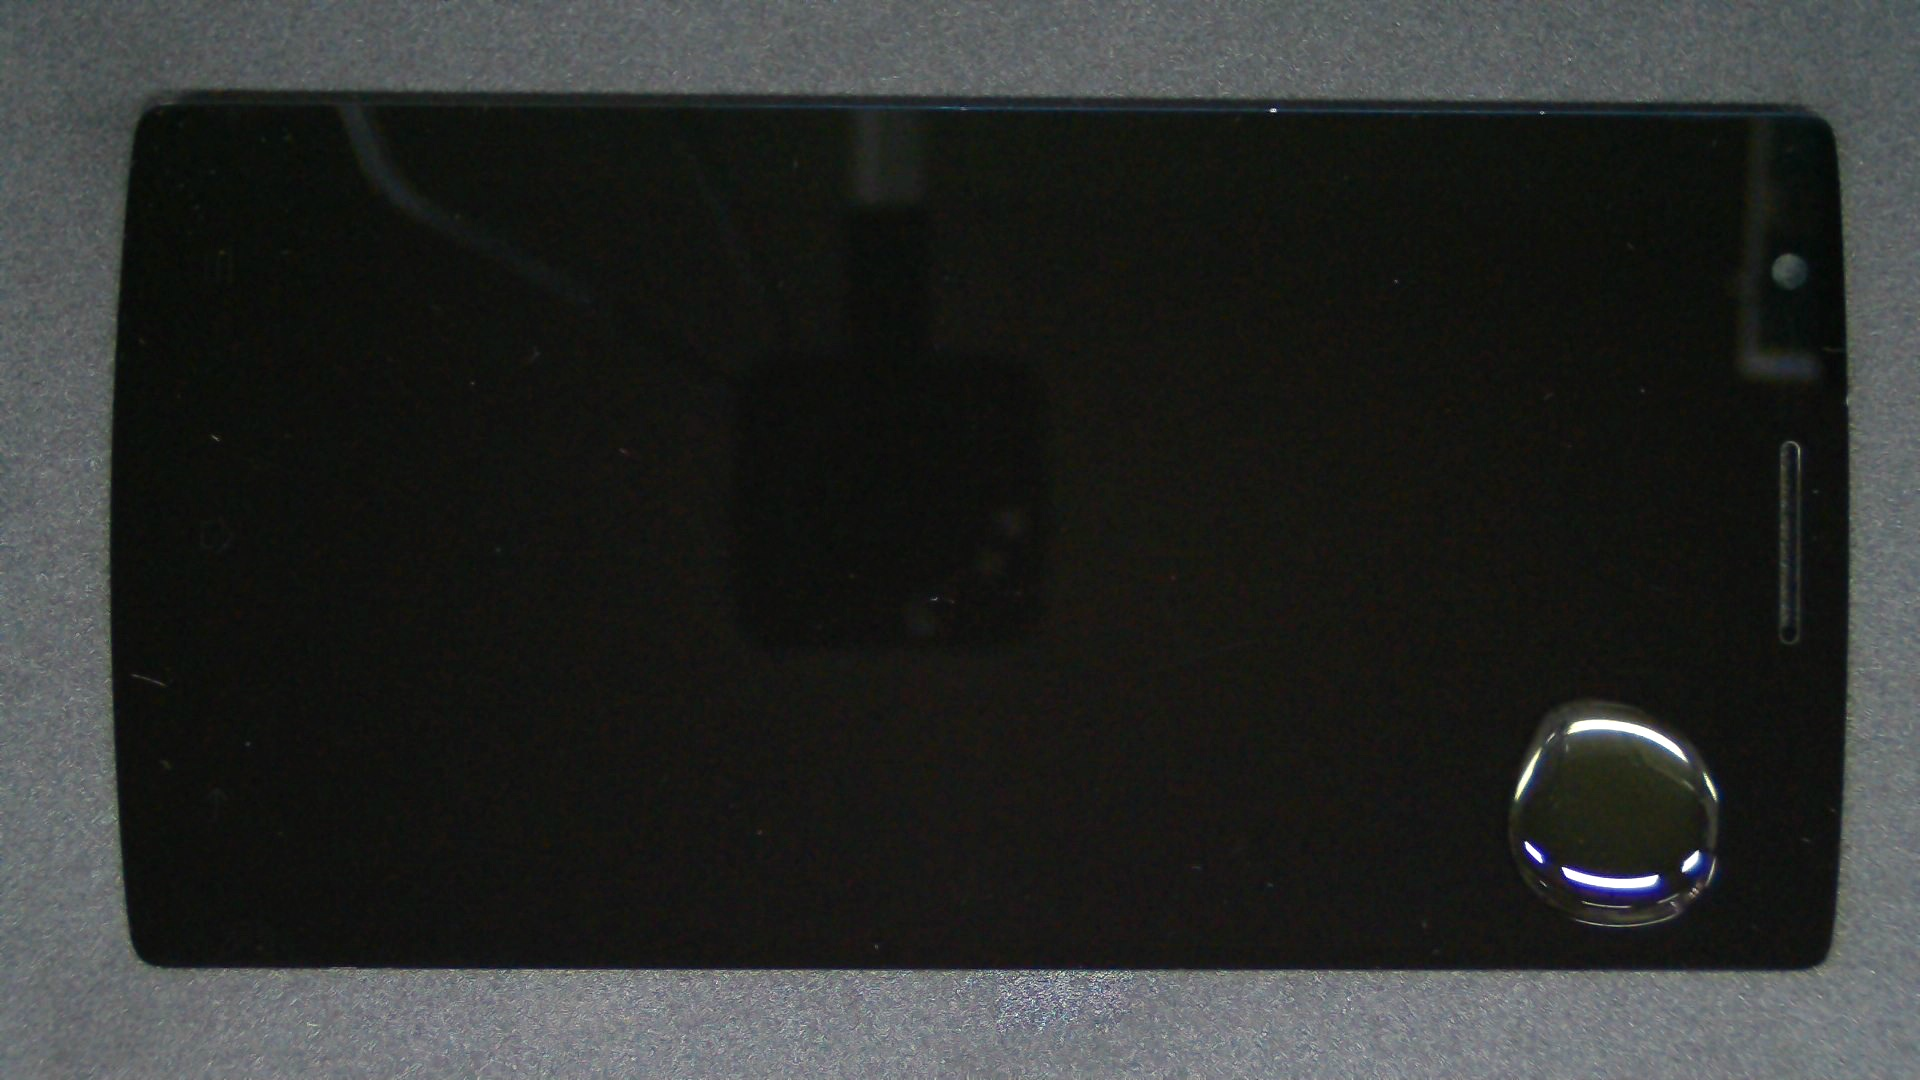oil: (794, 348, 1920, 1047)
